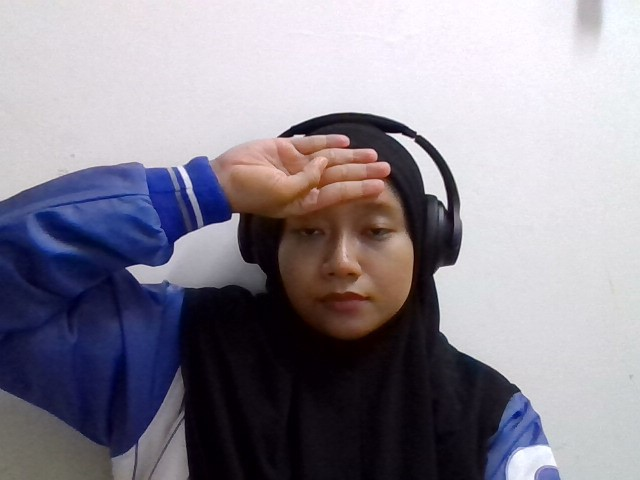Demam: (234, 133, 397, 242)
